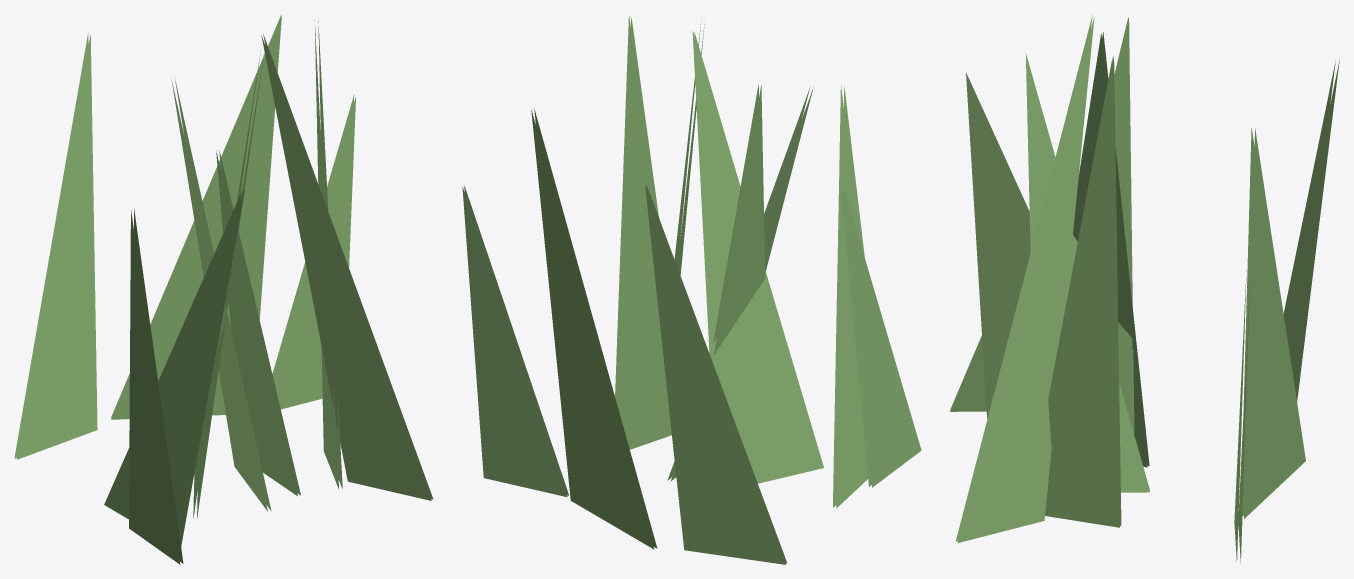
File: grass_tuft_b.glb
The picture shows the model from 3 angles, left to right: view 1: azimuth 30°, elevation 25°; view 2: azimuth 150°, elevation 25°; view 3: azimuth 270°, elevation 25°; orthographic projection. The views are drawn at different scales.
Parts seen in each view (by area): view 1: grass_tuft_b; view 2: grass_tuft_b; view 3: grass_tuft_b.
Boxes of the visible parts, box(x1,y1,x2,y2) form: grass_tuft_b: box(14, 14, 433, 564); grass_tuft_b: box(462, 15, 921, 564); grass_tuft_b: box(950, 15, 1339, 563).
Size of the model in its own units: 0.4168 by 0.5358 by 0.4003.
